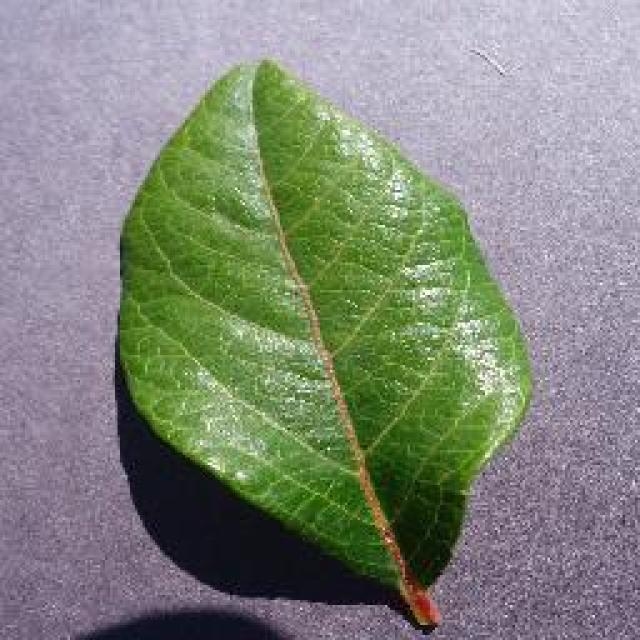Blu_healthy: (143, 122, 475, 458)
